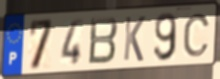4: (59, 18, 84, 68)
7: (28, 18, 55, 72)
9: (153, 11, 179, 63)
B: (87, 15, 119, 67)
C: (182, 12, 212, 59)
K: (122, 15, 147, 63)
